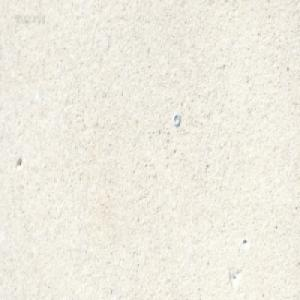Washer: (172, 112, 180, 126)
